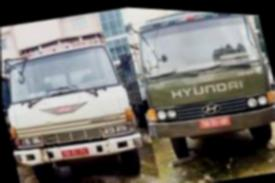License_Plate: (198, 113, 231, 135), (57, 142, 93, 162)
